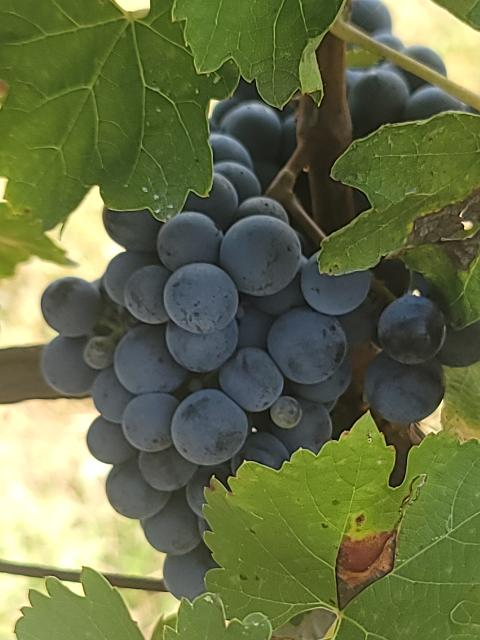grapes: (41, 134, 372, 600)
